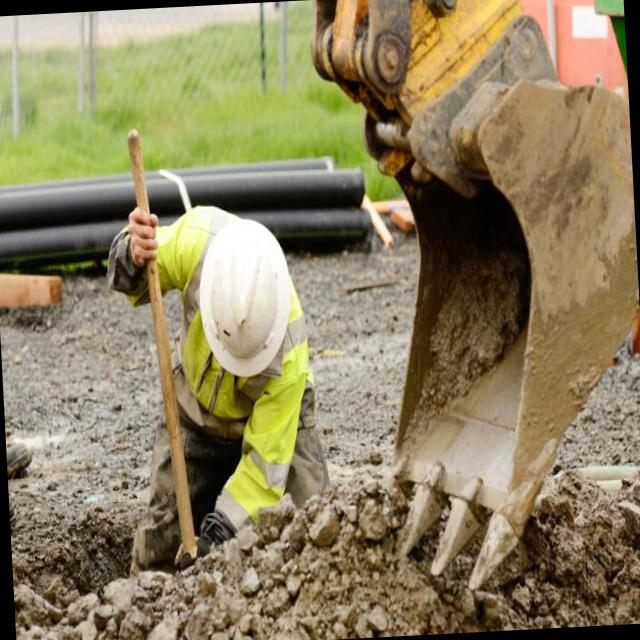Helmet: (195, 219, 301, 383)
